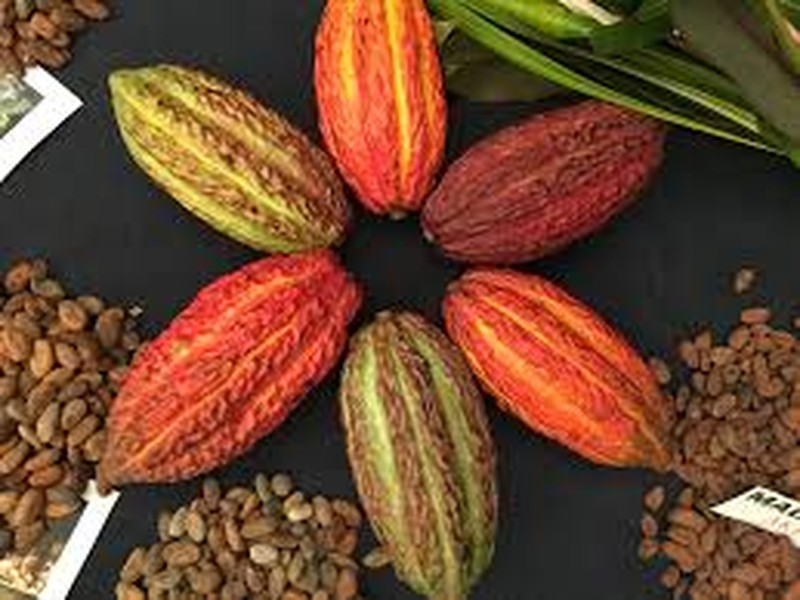Cacaopod: (104, 67, 353, 248)
